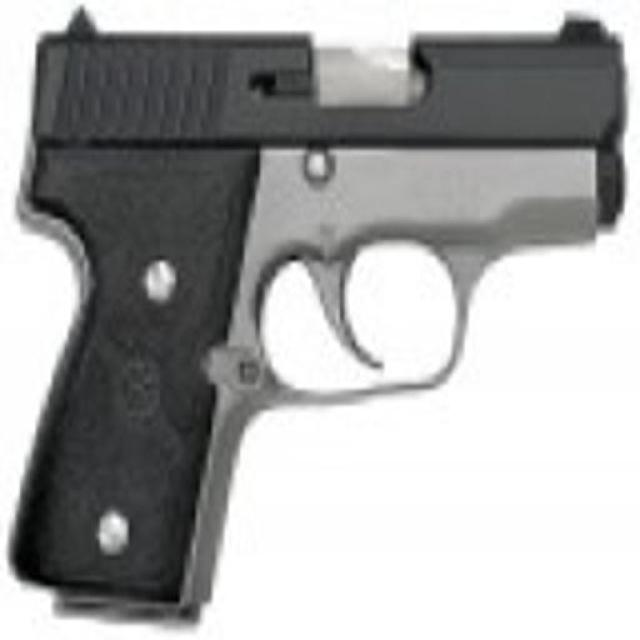pistol: (27, 10, 627, 617)
